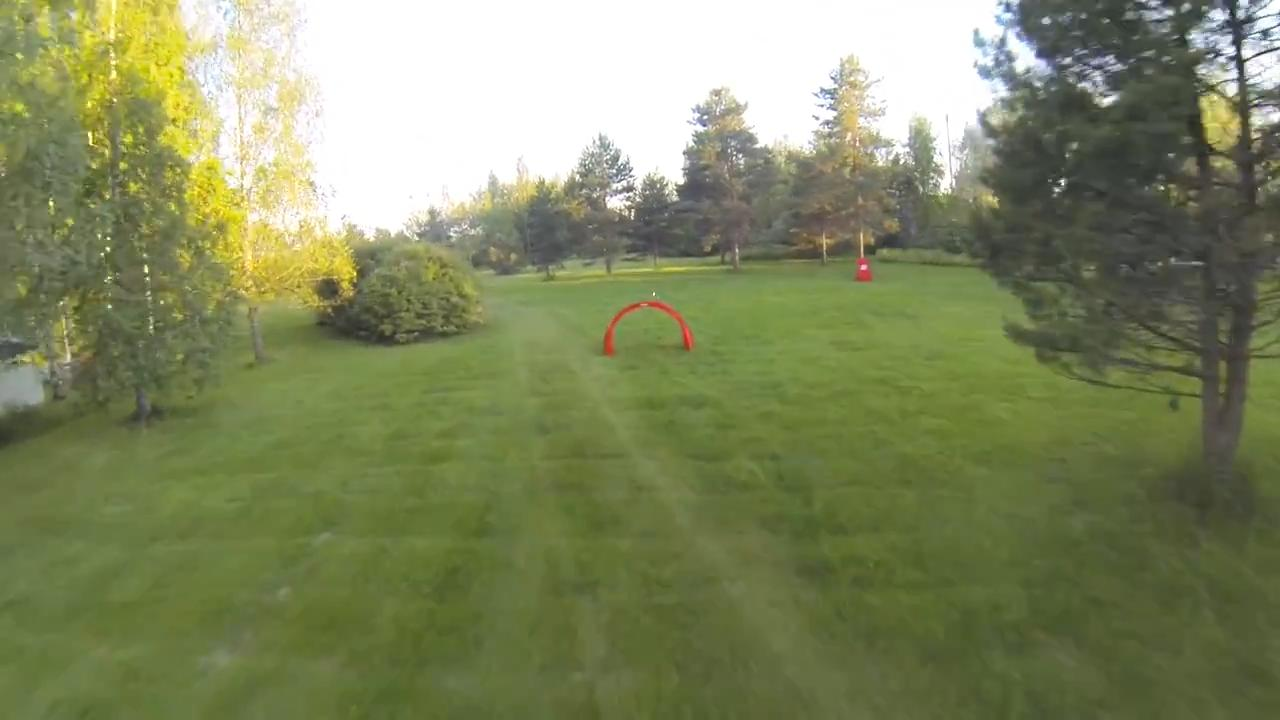gate: (598, 300, 697, 357)
